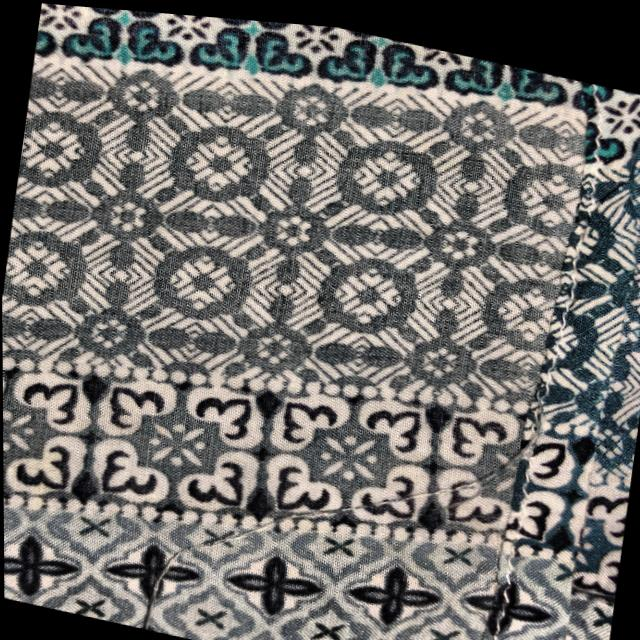Stitch: (122, 315, 516, 640)
